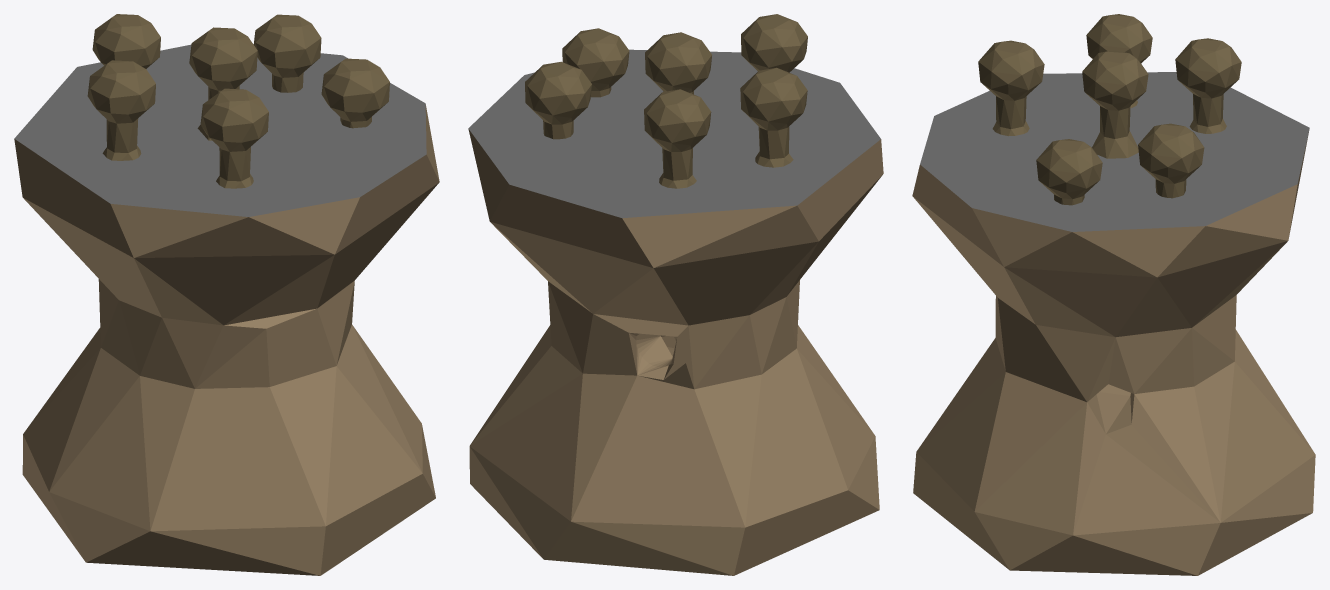
File: ErrodedForest.fbx
The picture shows the model from 3 angles, left to right: view 1: azimuth 30°, elevation 25°; view 2: azimuth 150°, elevation 25°; view 3: azimuth 270°, elevation 25°; orthographic projection. The views are drawn at different scales.
Visible parts, largest first — view 1: Cylinder.001, Cylinder.002, Cylinder.006, Cylinder.005, Cylinder.004, Cylinder.007, Cylinder.003; view 2: Cylinder.001, Cylinder.002, Cylinder.003, Cylinder.005, Cylinder.007, Cylinder.006, Cylinder.004; view 3: Cylinder.001, Cylinder.007, Cylinder.003, Cylinder.006, Cylinder.005, Cylinder.004, Cylinder.002.
Part boxes in pixels (left/top/right/bottom): Cylinder.001: left=14, top=44, right=439, bottom=575; Cylinder.002: left=87, top=60, right=155, bottom=160; Cylinder.006: left=200, top=88, right=268, bottom=188; Cylinder.005: left=253, top=14, right=321, bottom=92; Cylinder.004: left=321, top=58, right=389, bottom=128; Cylinder.007: left=189, top=27, right=257, bottom=140; Cylinder.003: left=92, top=14, right=160, bottom=68; Cylinder.001: left=468, top=49, right=883, bottom=575; Cylinder.002: left=740, top=67, right=807, bottom=167; Cylinder.003: left=644, top=89, right=711, bottom=188; Cylinder.005: left=525, top=61, right=591, bottom=139; Cylinder.007: left=645, top=32, right=711, bottom=94; Cylinder.006: left=741, top=14, right=807, bottom=72; Cylinder.004: left=562, top=28, right=629, bottom=97; Cylinder.001: left=912, top=72, right=1315, bottom=575; Cylinder.007: left=1082, top=50, right=1148, bottom=158; Cylinder.003: left=1175, top=38, right=1241, bottom=133; Cylinder.006: left=978, top=40, right=1044, bottom=136; Cylinder.005: left=1138, top=123, right=1204, bottom=198; Cylinder.004: left=1036, top=139, right=1102, bottom=205; Cylinder.002: left=1086, top=14, right=1152, bottom=108.
Size of the model in its own units: 2710 by 3385 by 2806.
